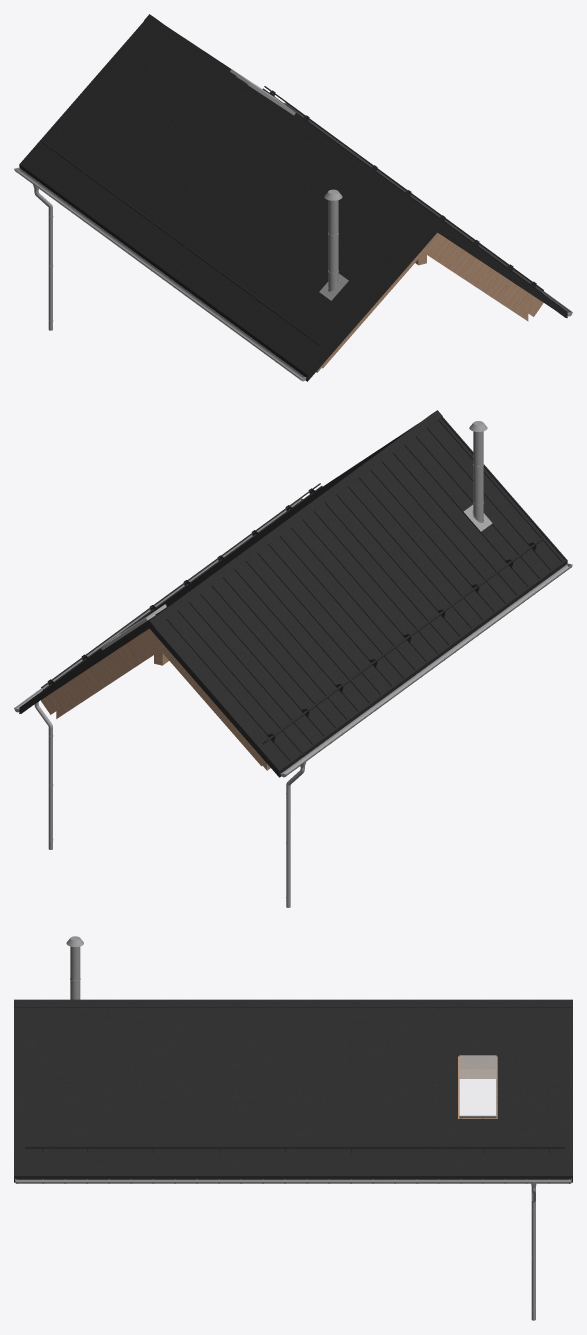
File: Black_Roof.glb
3 views of the same model, one above another, from view 1: azimuth 30°, elevation 25°; view 2: azimuth 150°, elevation 25°; view 3: azimuth 270°, elevation 25° (orthographic). The views are drawn at different scales.
Parts seen in each view (by area): view 1: Black_Roof, Alumininum_1_Black_Roof, Interior_Wood_Black_Roof; view 2: Black_Roof, Alumininum_1_Black_Roof, Interior_Wood_Black_Roof; view 3: Black_Roof, Alumininum_1_Black_Roof, Glass_Black_Roof, Interior_Wood_Black_Roof.
Boxes of the visible parts, box(x1,y1,x2,y2) form: Black_Roof: box(19, 14, 567, 381); Alumininum_1_Black_Roof: box(14, 69, 572, 381); Interior_Wood_Black_Roof: box(316, 232, 543, 372); Black_Roof: box(19, 410, 567, 777); Alumininum_1_Black_Roof: box(14, 421, 572, 907); Interior_Wood_Black_Roof: box(41, 628, 270, 770); Black_Roof: box(14, 999, 572, 1182); Alumininum_1_Black_Roof: box(15, 936, 571, 1320); Glass_Black_Roof: box(459, 1056, 495, 1115); Interior_Wood_Black_Roof: box(458, 1056, 497, 1118).
Size of the model in its own units: 2.54 by 2.66 by 4.64.
5 materials, 2 textured.
